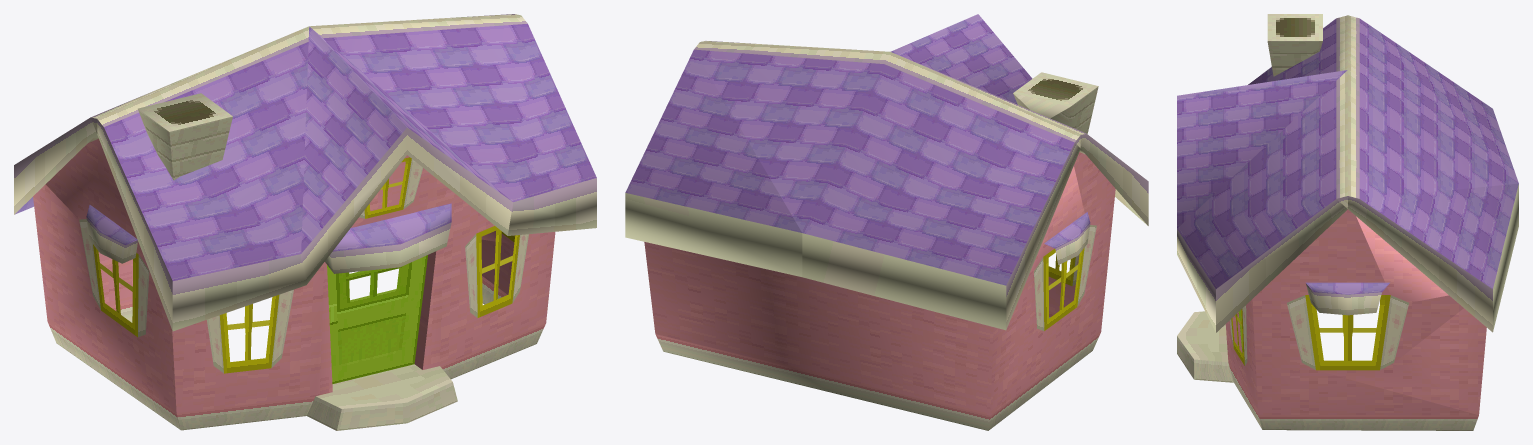
File: Cute Home M1.obj
The picture shows the model from 3 angles, left to right: view 1: azimuth 30°, elevation 25°; view 2: azimuth 150°, elevation 25°; view 3: azimuth 270°, elevation 25°; orthographic projection. The views are drawn at different scales.
Parts seen in each view (by area): view 1: Cute_Home_M1; view 2: Cute_Home_M1; view 3: Cute_Home_M1.
Boxes of the visible parts, <box> form: Cute_Home_M1: <box>14,14,596,430</box>; Cute_Home_M1: <box>625,14,1148,430</box>; Cute_Home_M1: <box>1177,14,1518,430</box>.
Bounding box in the file's own units: 7.5 × 5.5 × 6.
8 materials, 8 textured.
